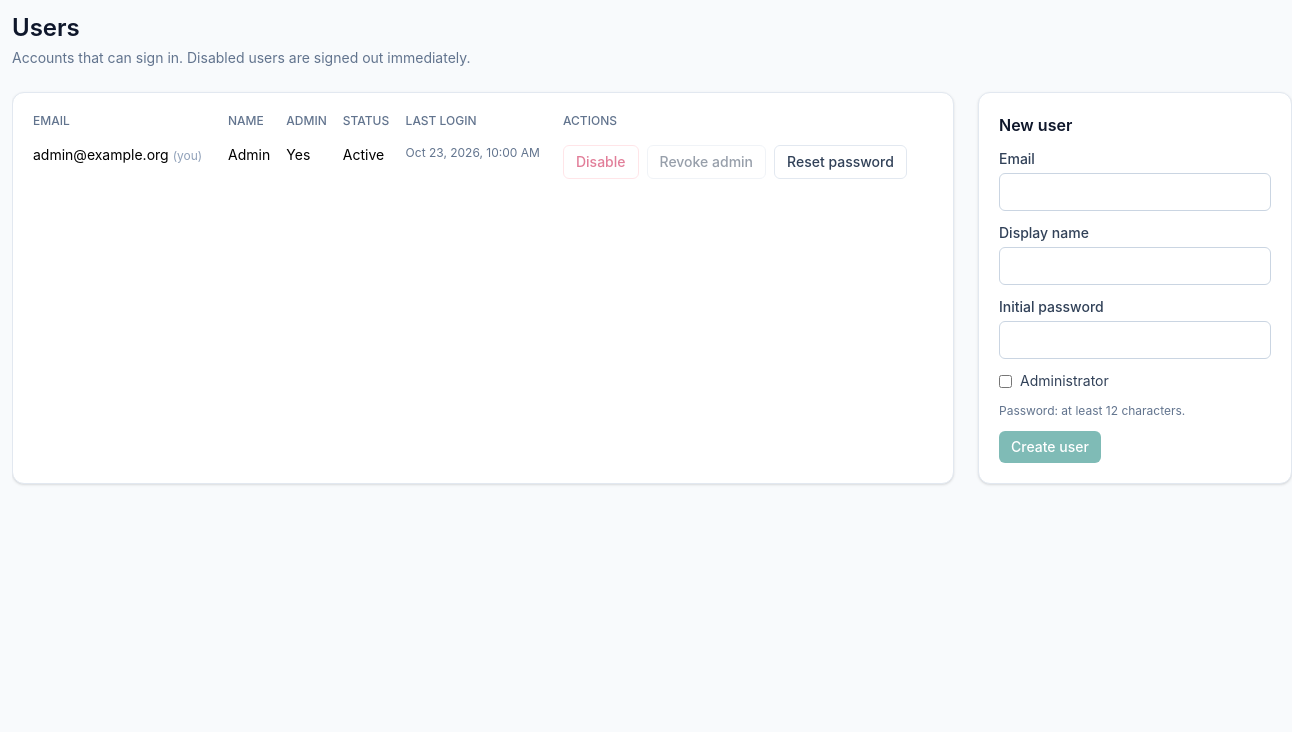
Test case: AdminUsersPage › creates a user and lists it
Type "bob@example.org" into the field labelled "Email". click: (1135, 192)
box: [999,173,1271,211]
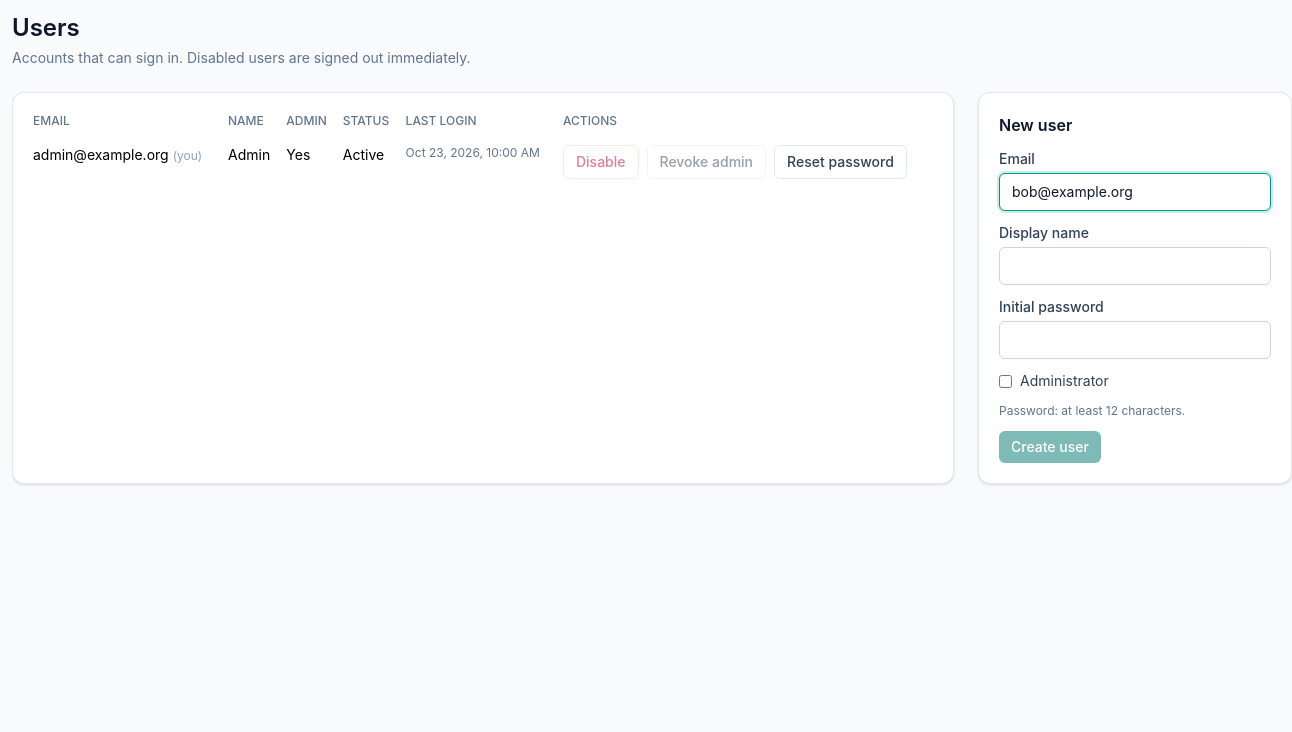
Type "Bob" into the field labelled "Display name". click: (1135, 266)
box: [999,247,1271,285]
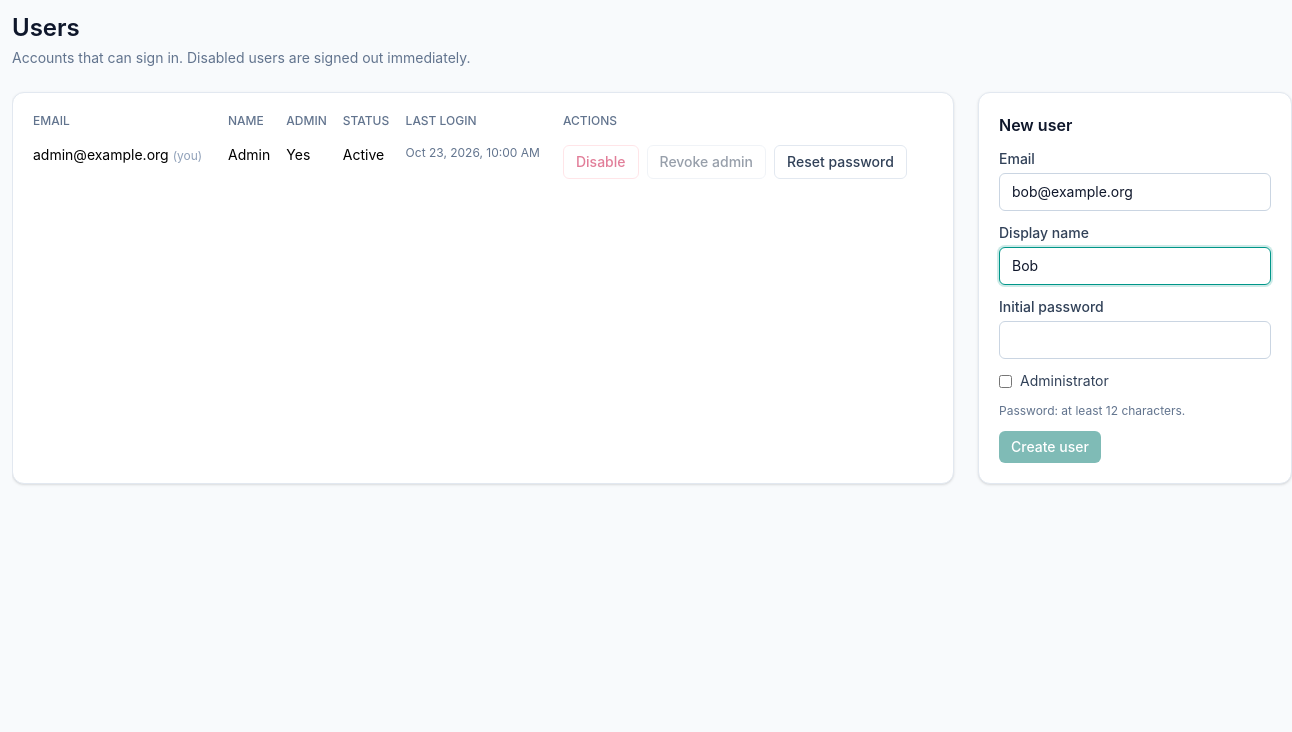
Type "twelve chars ok" into the password field labelled "Initial password". click: (1135, 340)
box: [999,321,1271,359]
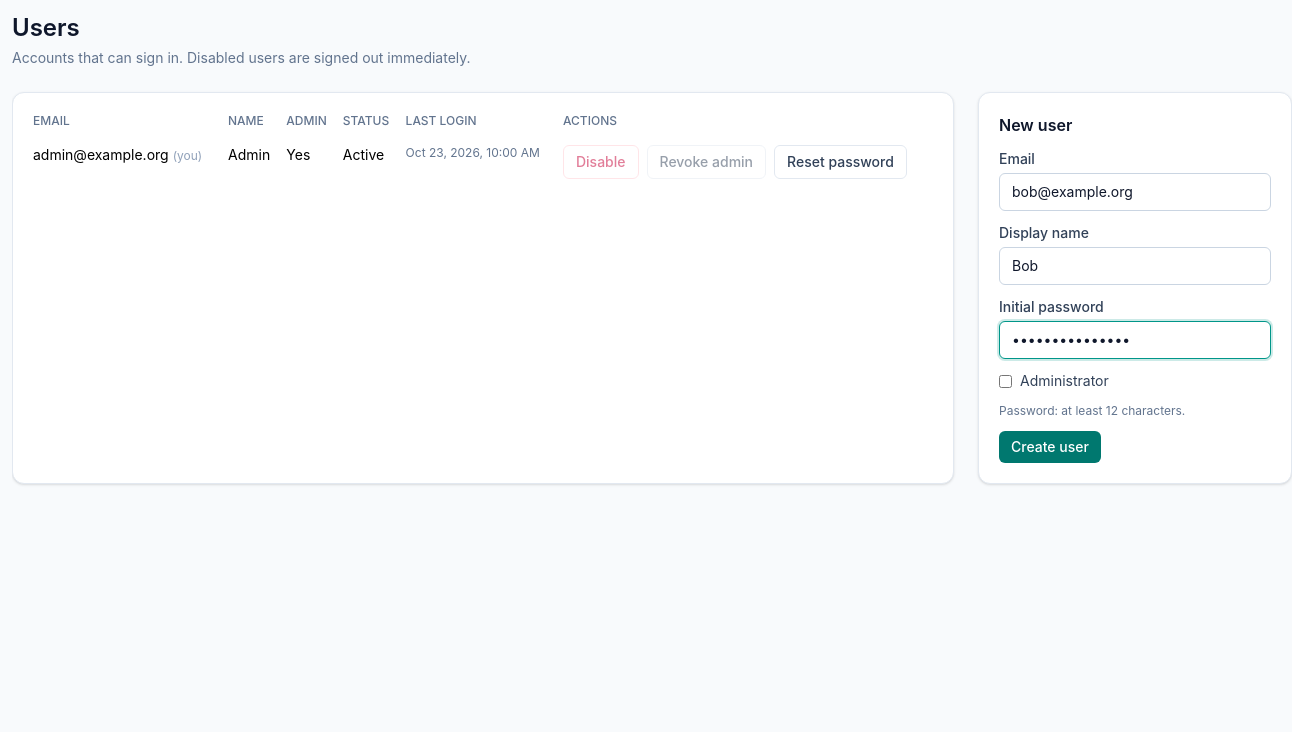
Click the checkbox labelled "Administrator". click: (1006, 381)
box: [999,374,1012,388]
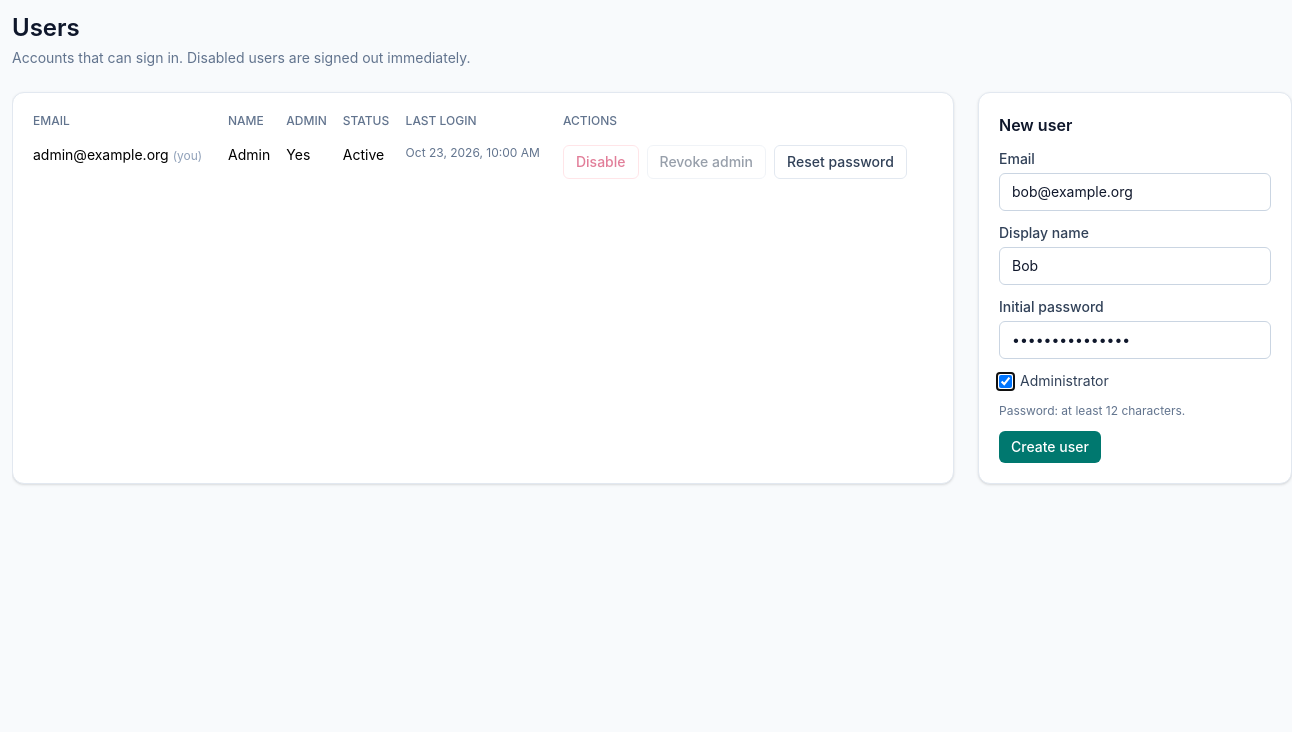
Click the button "Create user". click: (1050, 447)
box: [999,431,1101,463]
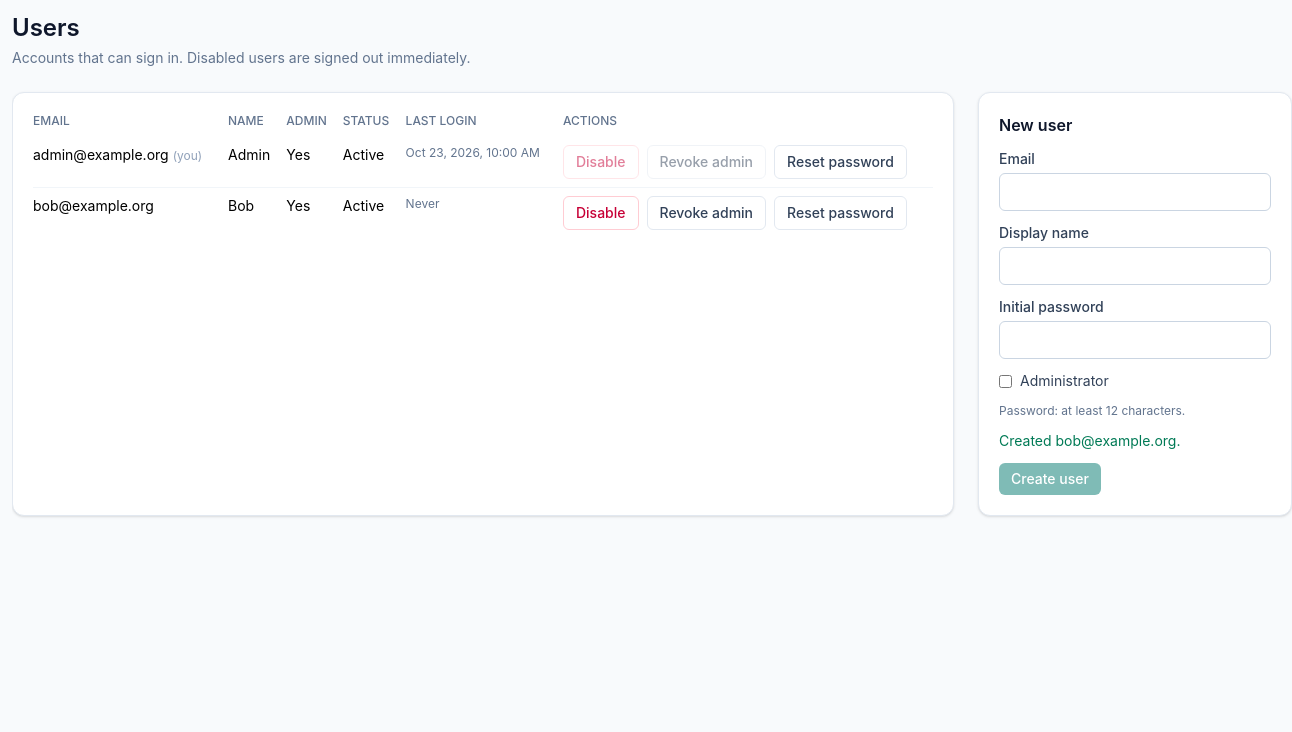
Expected: the text "Never" is shown, [406,188,563,238]
